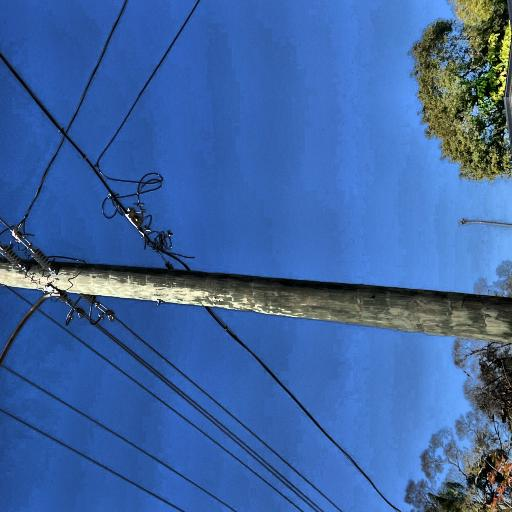pole: (9, 0, 143, 512)
street light: (0, 75, 101, 183)
